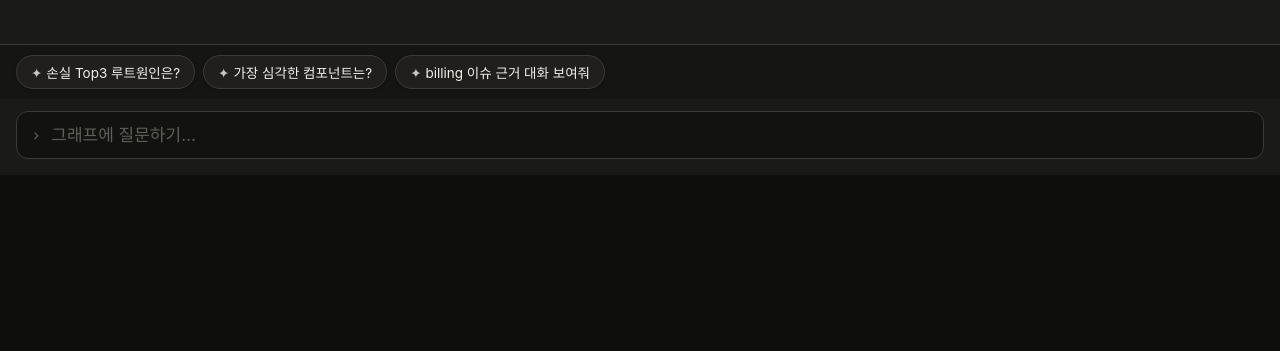
ChatStream › should append the user message to the stream when a question is submitted
Type "결제 실패 왜 이렇게 많아?" into the field with placeholder "그래프에 질문하기…" at (649, 135), box [49, 124, 1249, 146]
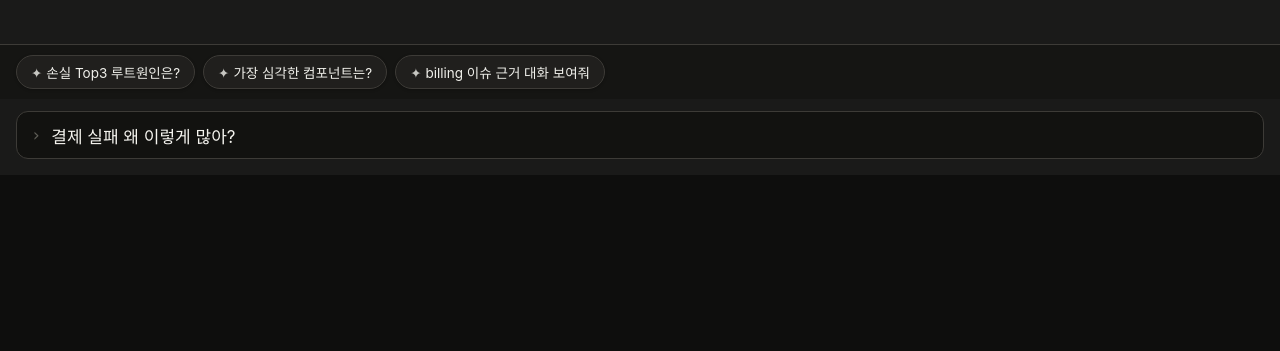
Submit the form with placeholder "질문", box [0, 99, 1279, 175]
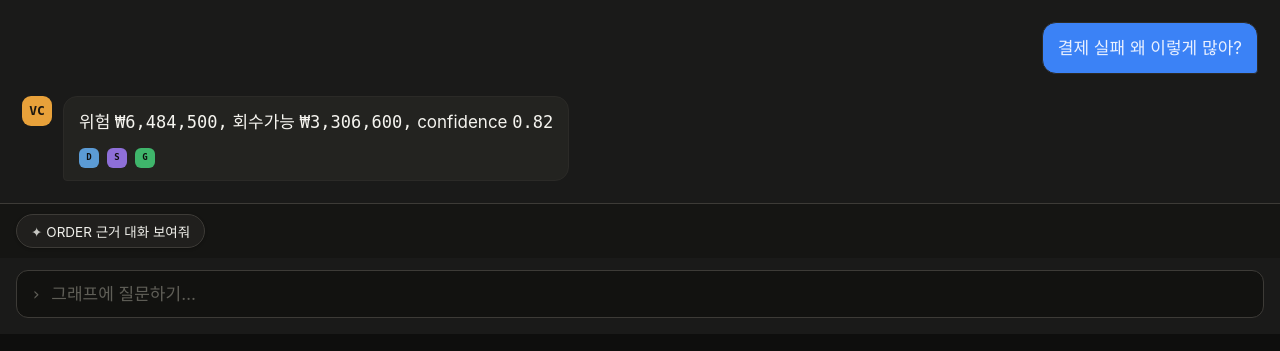
Result: the text "결제 실패 왜 이렇게 많아?" is shown at [1042, 22, 1258, 74]
